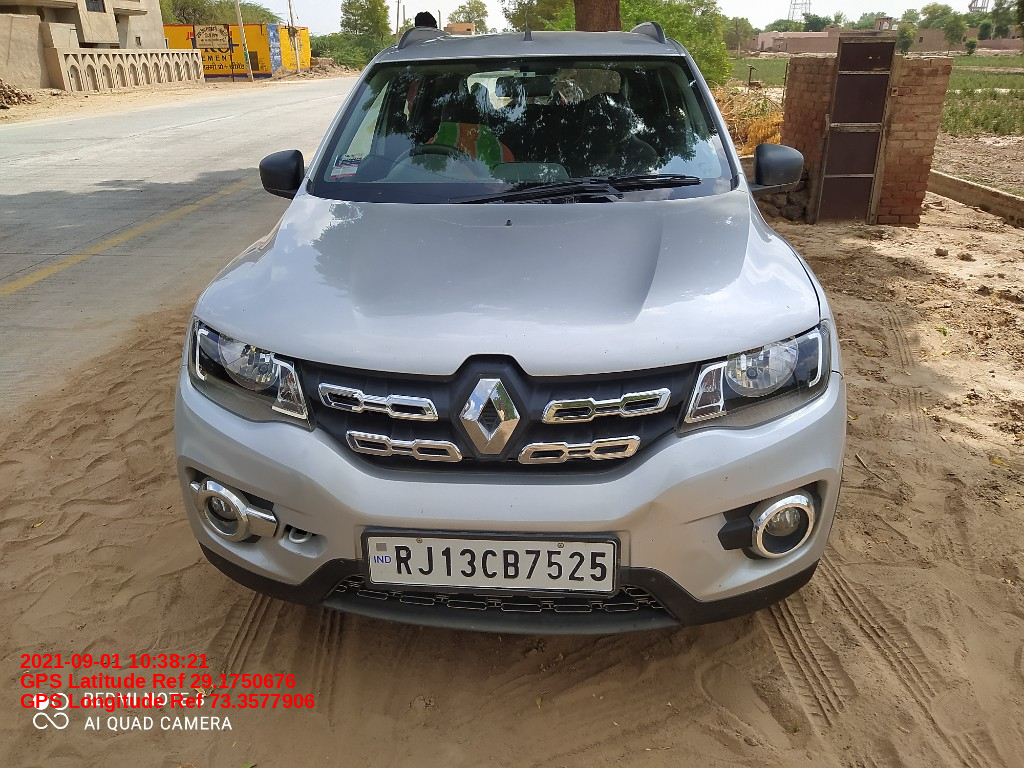Pressed: (622, 494, 697, 571)
Scratched: (715, 470, 738, 488)
